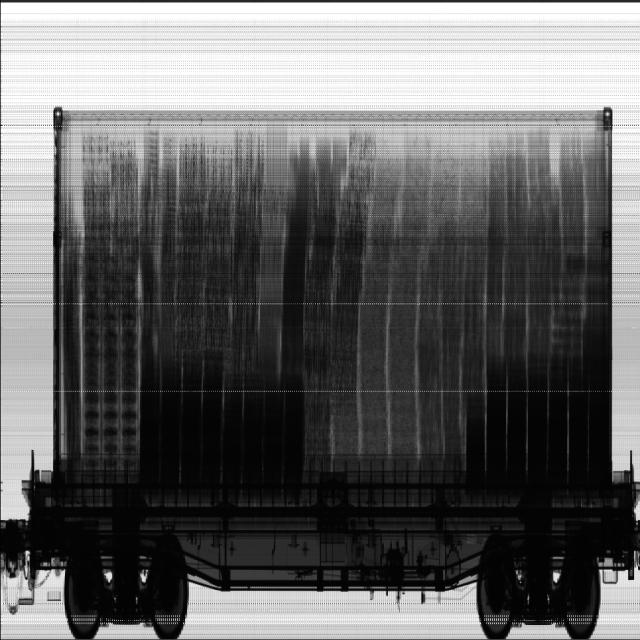textiles: (331, 132, 606, 458)
